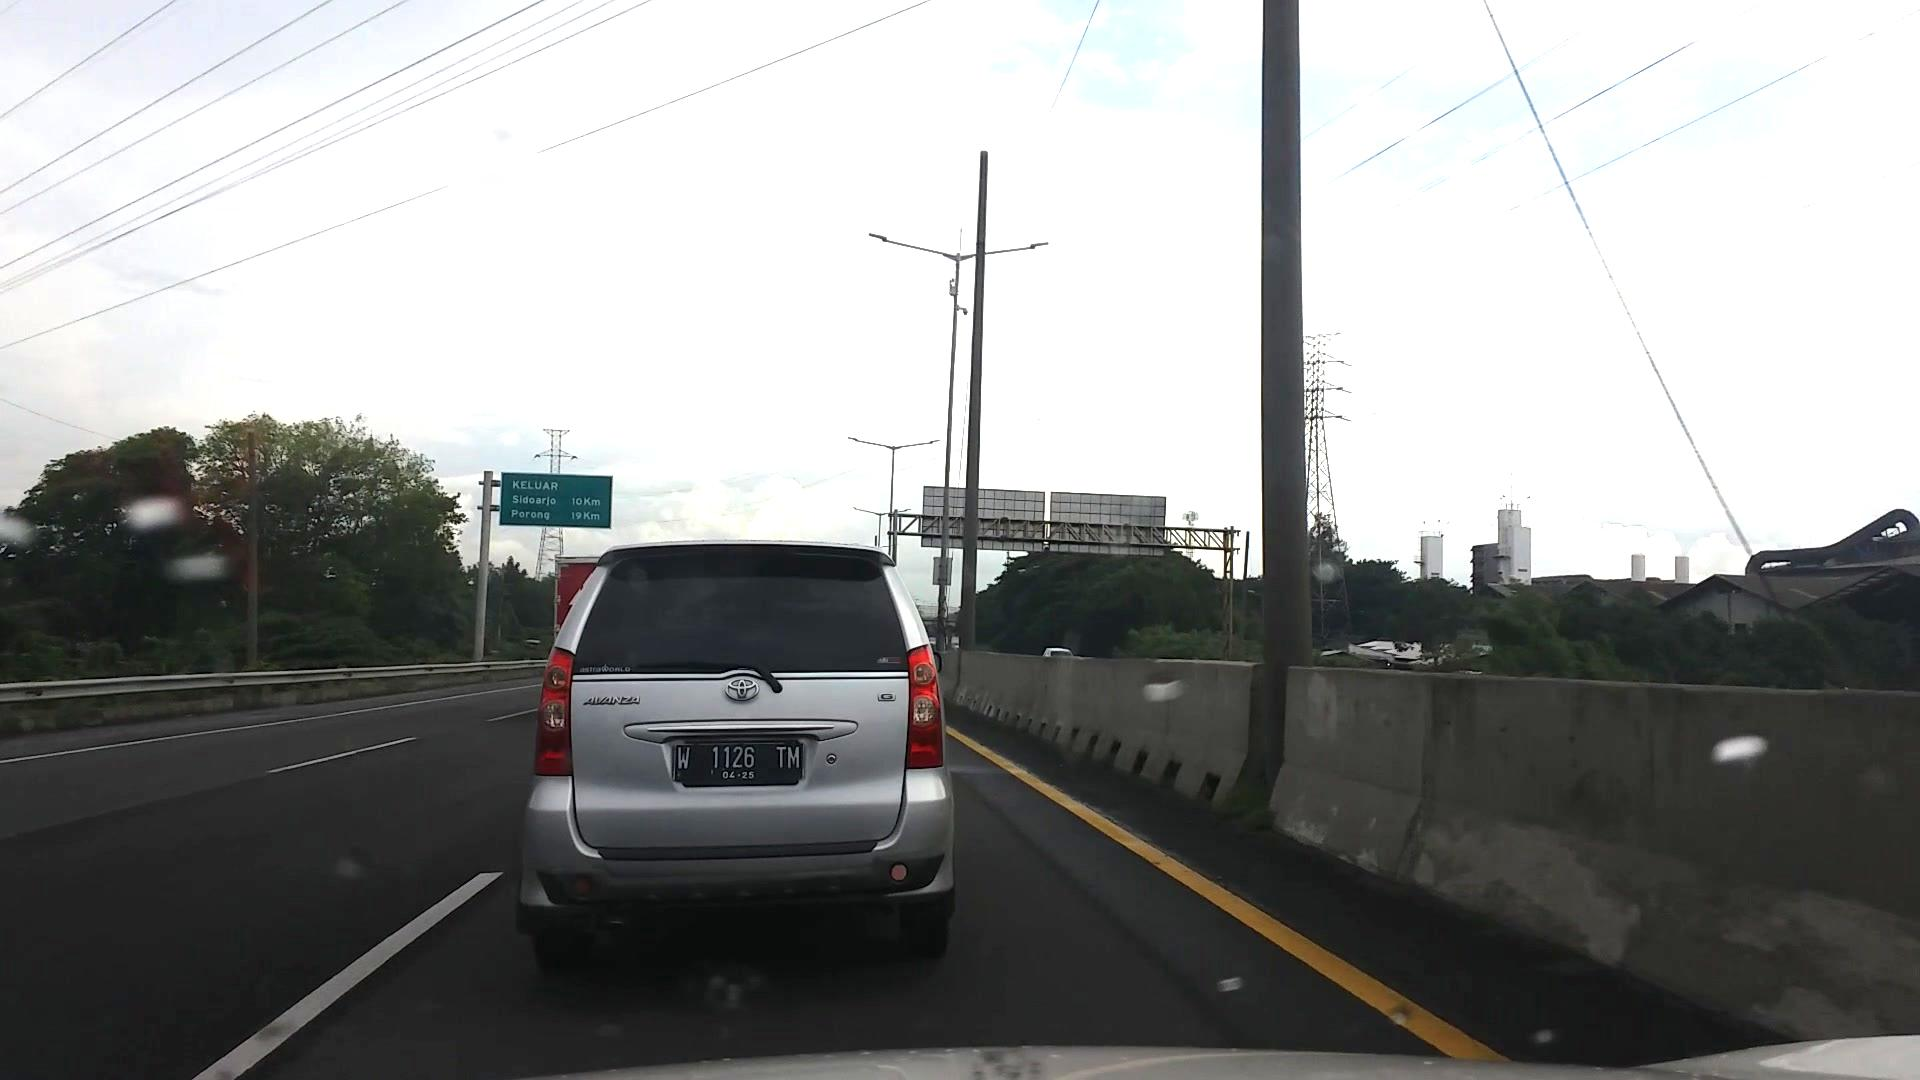plate_positive: (673, 742, 800, 786)
